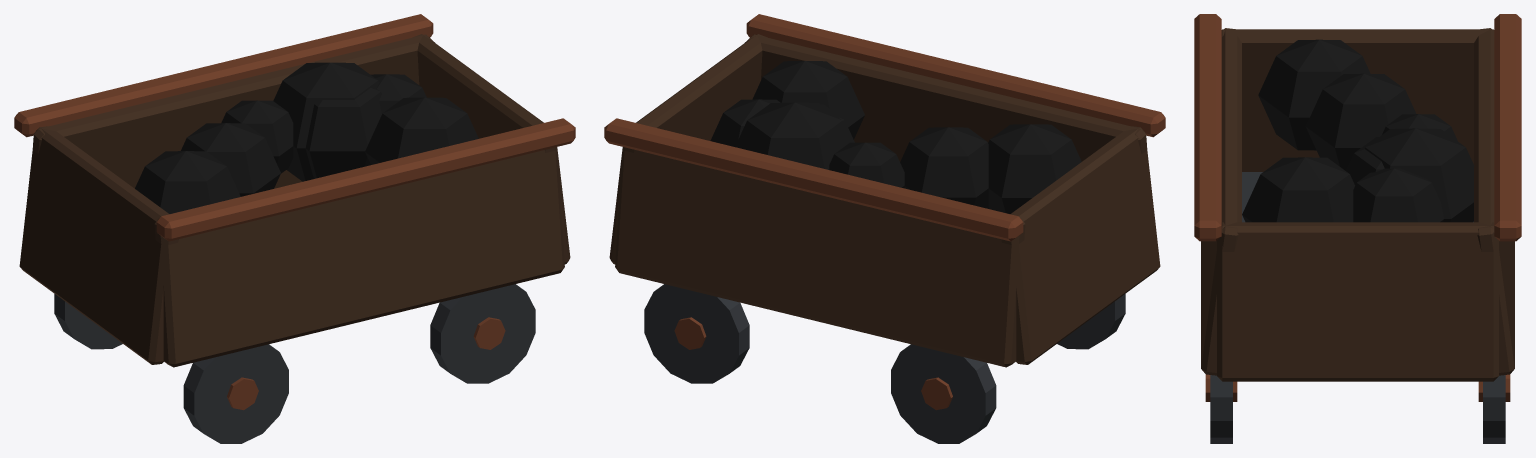
The model's file is cart.glb.
3 renders of one model, left to right at view 1: azimuth 30°, elevation 25°; view 2: azimuth 150°, elevation 25°; view 3: azimuth 270°, elevation 25°, orthographic. The views are drawn at different scales.
Parts seen in each view (by area): view 1: Cart; view 2: Cart; view 3: Cart.
Boxes of the visible parts, x1,y1,x2,y2 form: Cart: (14, 14, 575, 443); Cart: (604, 14, 1165, 443); Cart: (1194, 14, 1521, 443).
Bounding box in the file's own units: 1.13 × 0.6765 × 0.72.
